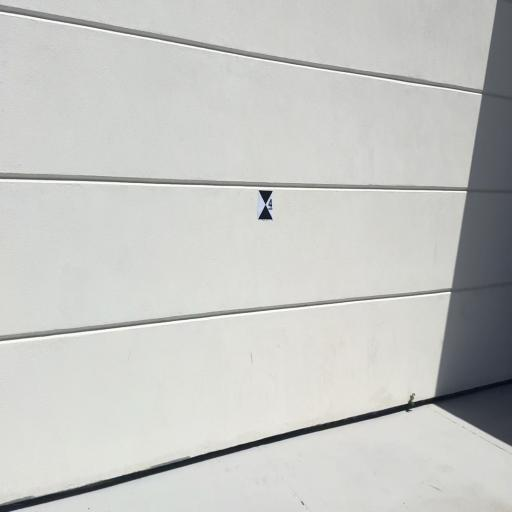target4: (258, 190, 273, 220)
